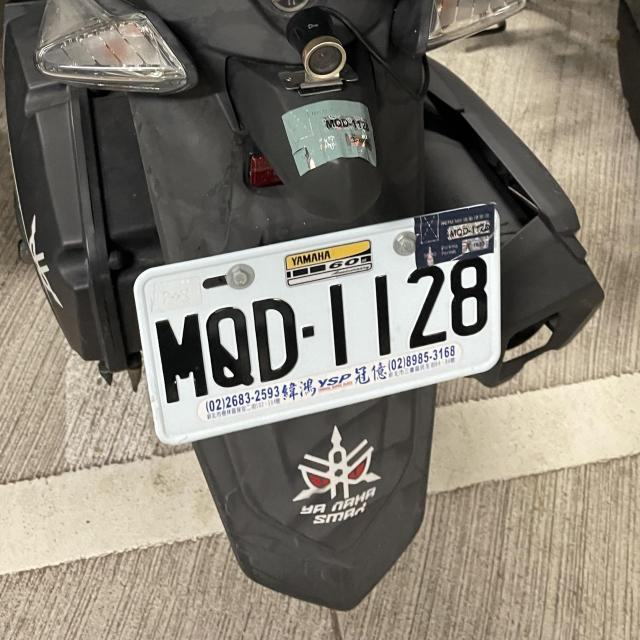W: (131, 201, 503, 448)
